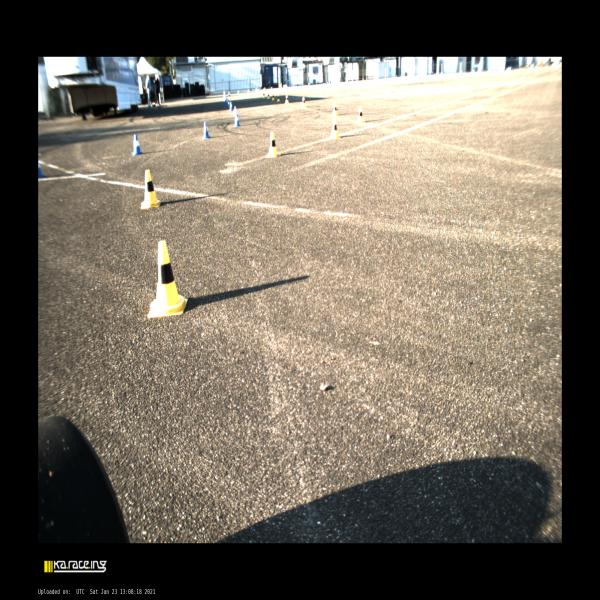blue_cone: (132, 134, 142, 156), (200, 121, 211, 139), (38, 162, 47, 178), (233, 112, 241, 126), (229, 102, 233, 110), (228, 99, 230, 107), (228, 91, 230, 96), (237, 90, 239, 94), (226, 98, 227, 104)
yellow_cone: (147, 240, 188, 319), (141, 170, 160, 209), (265, 132, 279, 158), (331, 120, 340, 140), (356, 108, 365, 123), (331, 103, 339, 116), (300, 96, 307, 108), (284, 94, 290, 104), (271, 94, 275, 101), (277, 94, 280, 102), (268, 93, 270, 99), (263, 92, 265, 98), (259, 91, 261, 97)
